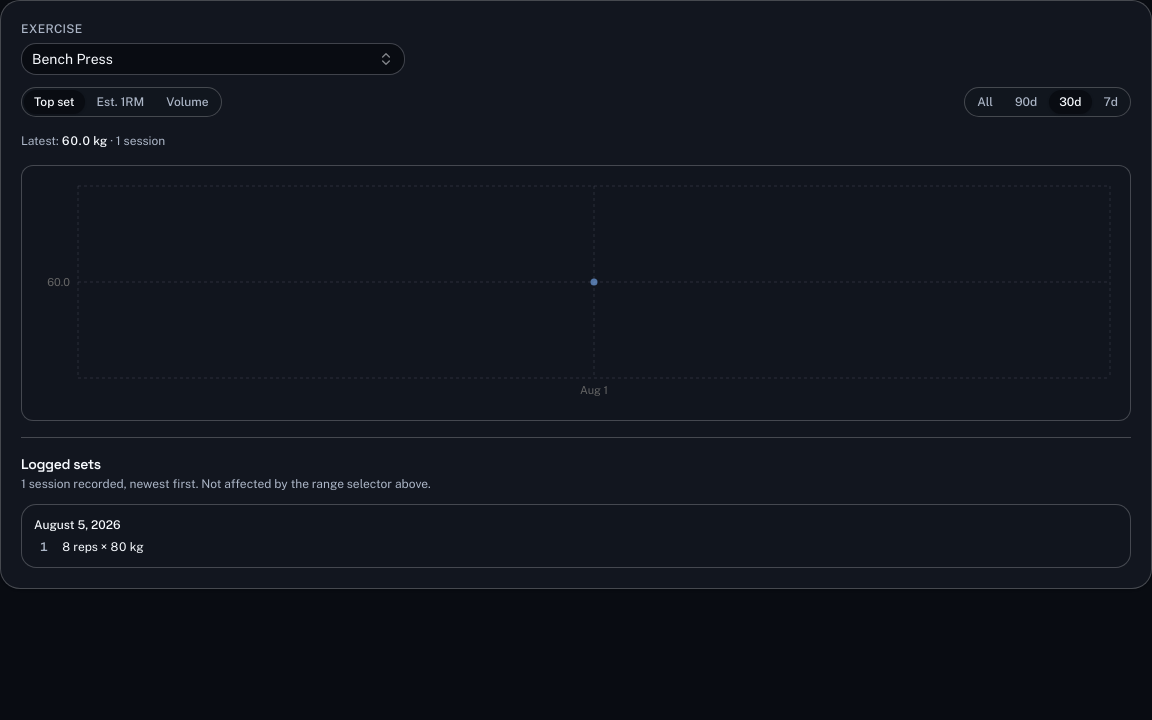
Test case: ExerciseProgressClient — the metric › DROPS a session whose metric is null instead of charting a zero
Click the tab "Est. 1RM" at (120,102), box [87,90,154,114]
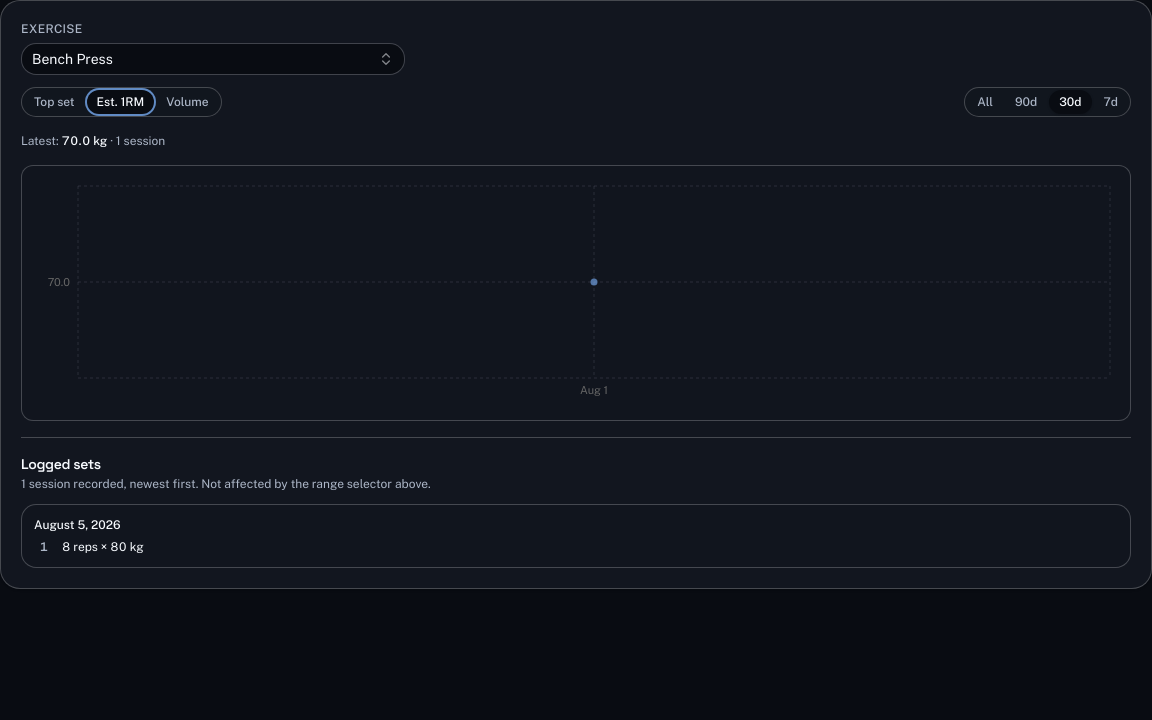
Now the text "70.0 kg" is shown, box [62,134,107,148]
